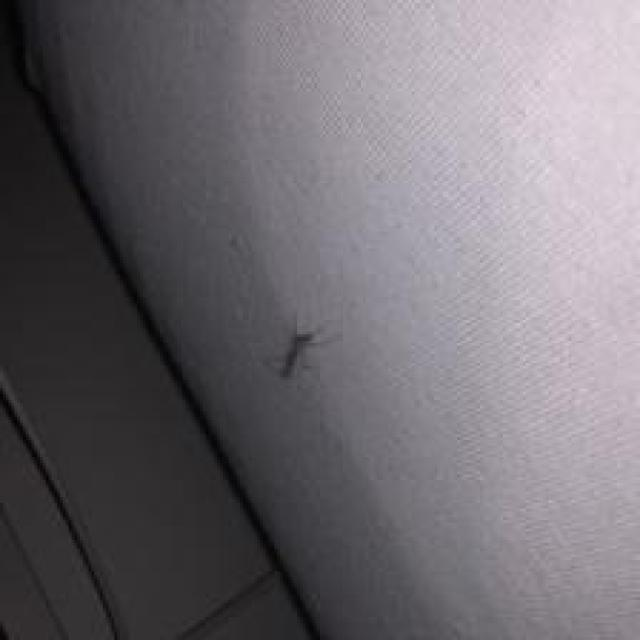Culex: (278, 327, 316, 379)
